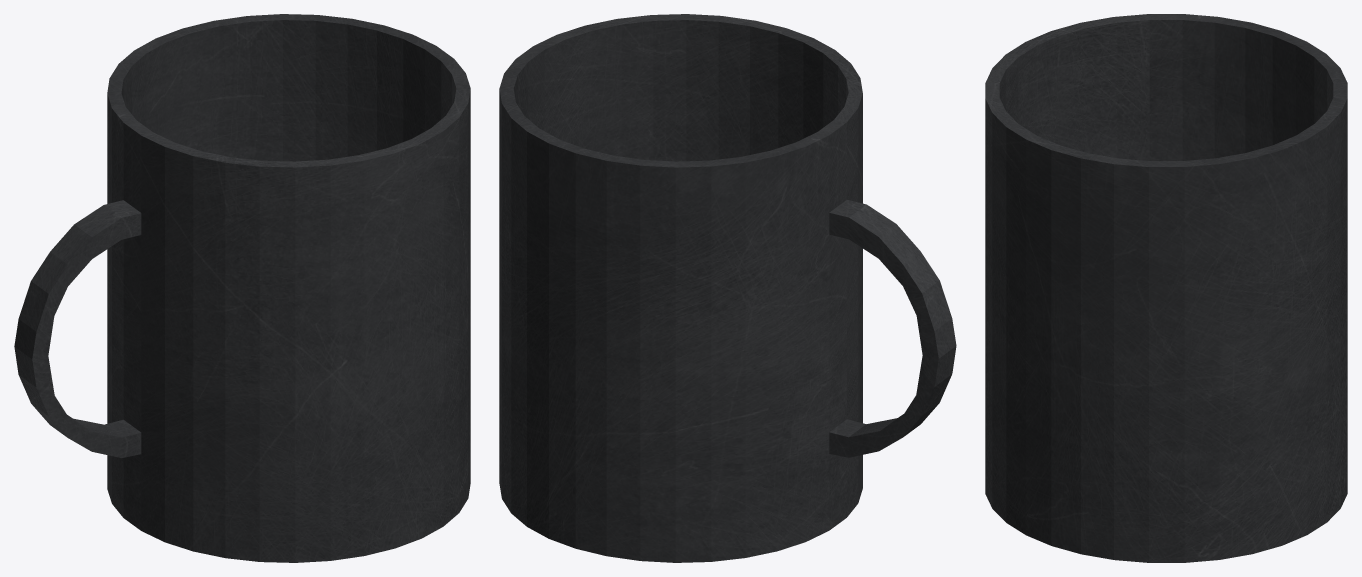
The model's file is cup01.fbx.
3 views of the same model, side by side, from view 1: azimuth 30°, elevation 25°; view 2: azimuth 150°, elevation 25°; view 3: azimuth 270°, elevation 25° (orthographic).
Parts seen in each view (by area): view 1: Cup; view 2: Cup; view 3: Cup.
Part boxes in pixels (<box>): Cup: <box>14,14,470,562</box>; Cup: <box>499,14,956,562</box>; Cup: <box>985,14,1347,562</box>.
Bounding box in the file's own units: 40.28 × 36 × 29.86.
